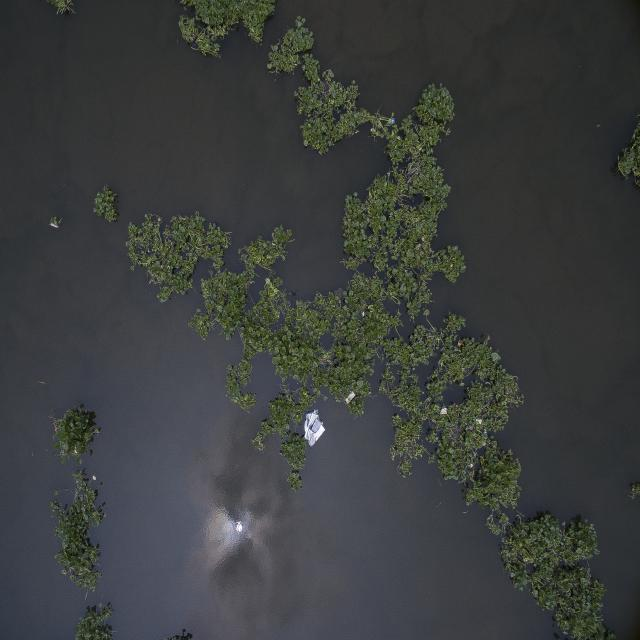plastic: (293, 406, 333, 451), (378, 110, 404, 132), (42, 214, 69, 235), (341, 390, 359, 408), (439, 404, 454, 424)
